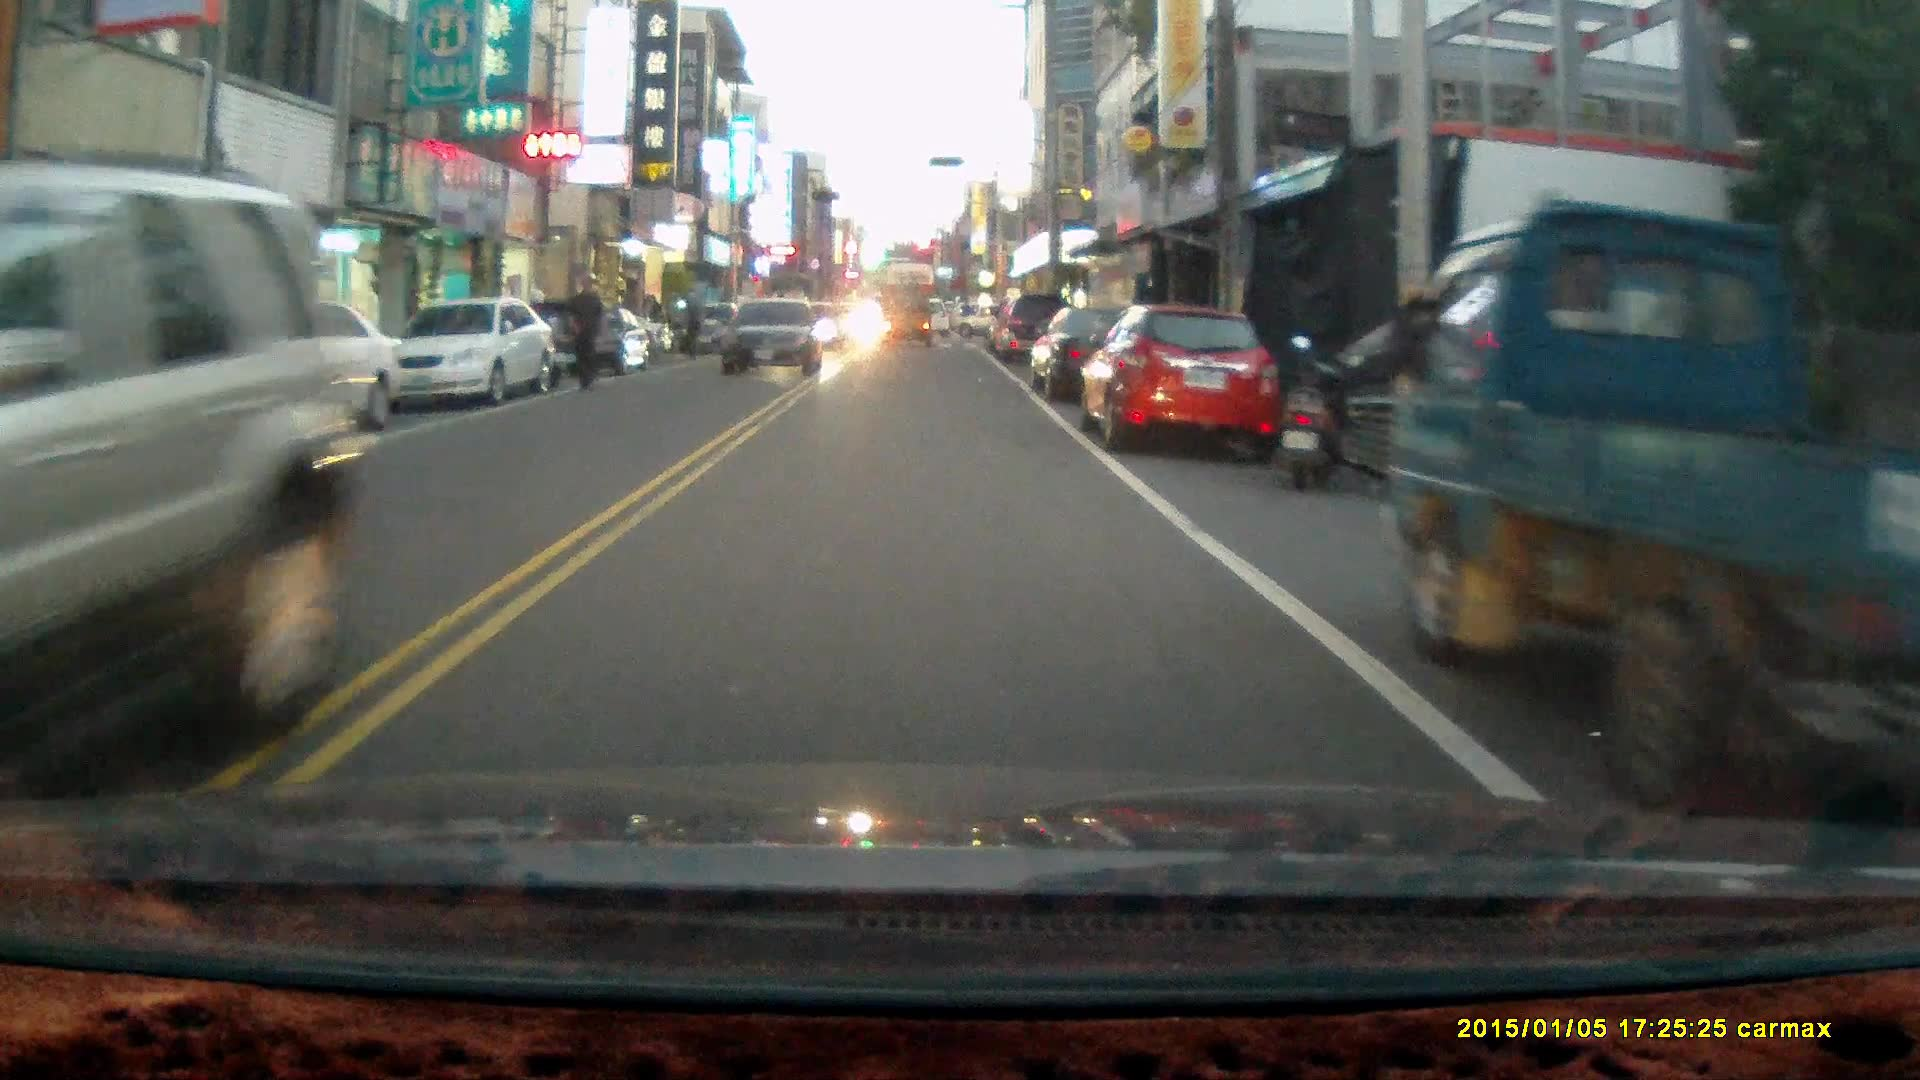pedestrian: (563, 270, 605, 396), (679, 290, 704, 356)
vehicle: (1384, 201, 1920, 804), (1, 164, 362, 801), (1081, 304, 1281, 460), (386, 294, 553, 407), (1029, 294, 1190, 404), (723, 297, 826, 380), (876, 284, 936, 350)
